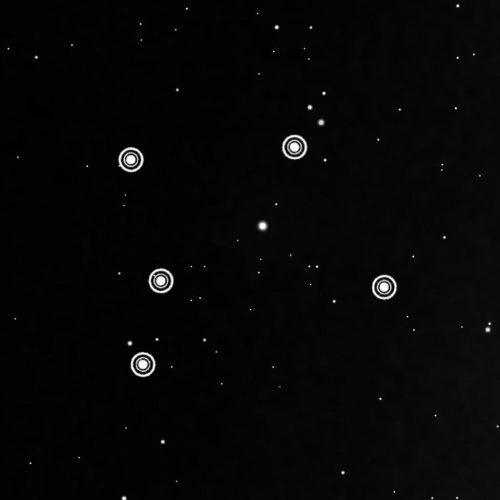libra: (112, 131, 404, 387)
